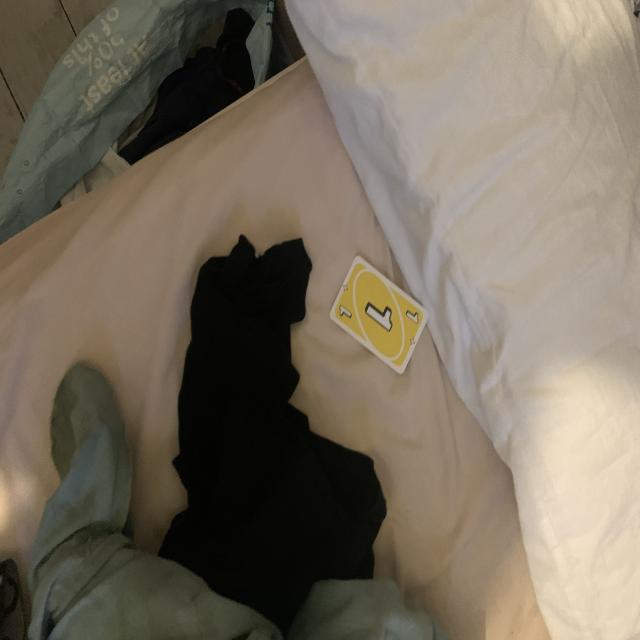lyellow-1: (335, 302, 355, 324)
